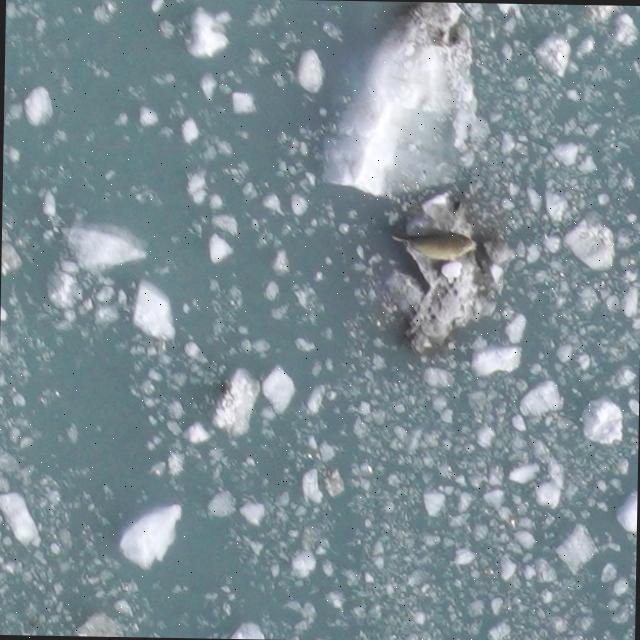seal: (387, 229, 482, 261)
